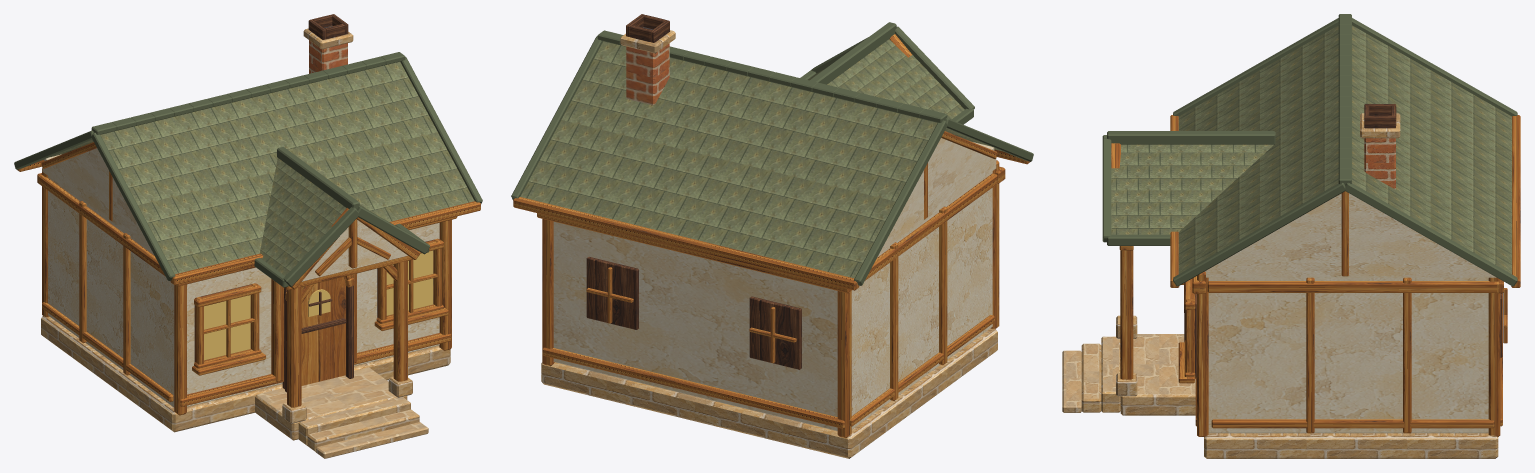
Rendered from HouseCozy_Lv1_LOD1.fbx.
The picture shows the model from 3 angles, left to right: view 1: azimuth 30°, elevation 25°; view 2: azimuth 150°, elevation 25°; view 3: azimuth 270°, elevation 25°; orthographic projection. The views are drawn at different scales.
Visible parts, largest first — view 1: HouseCozy_Lv1_LOD1; view 2: HouseCozy_Lv1_LOD1; view 3: HouseCozy_Lv1_LOD1.
Boxes of the visible parts, x1,y1,x2,y2 form: HouseCozy_Lv1_LOD1: (14, 14, 482, 458); HouseCozy_Lv1_LOD1: (511, 14, 1033, 458); HouseCozy_Lv1_LOD1: (1062, 14, 1520, 458).
Size of the model in its own units: 10.3 by 9.29 by 11.82.
